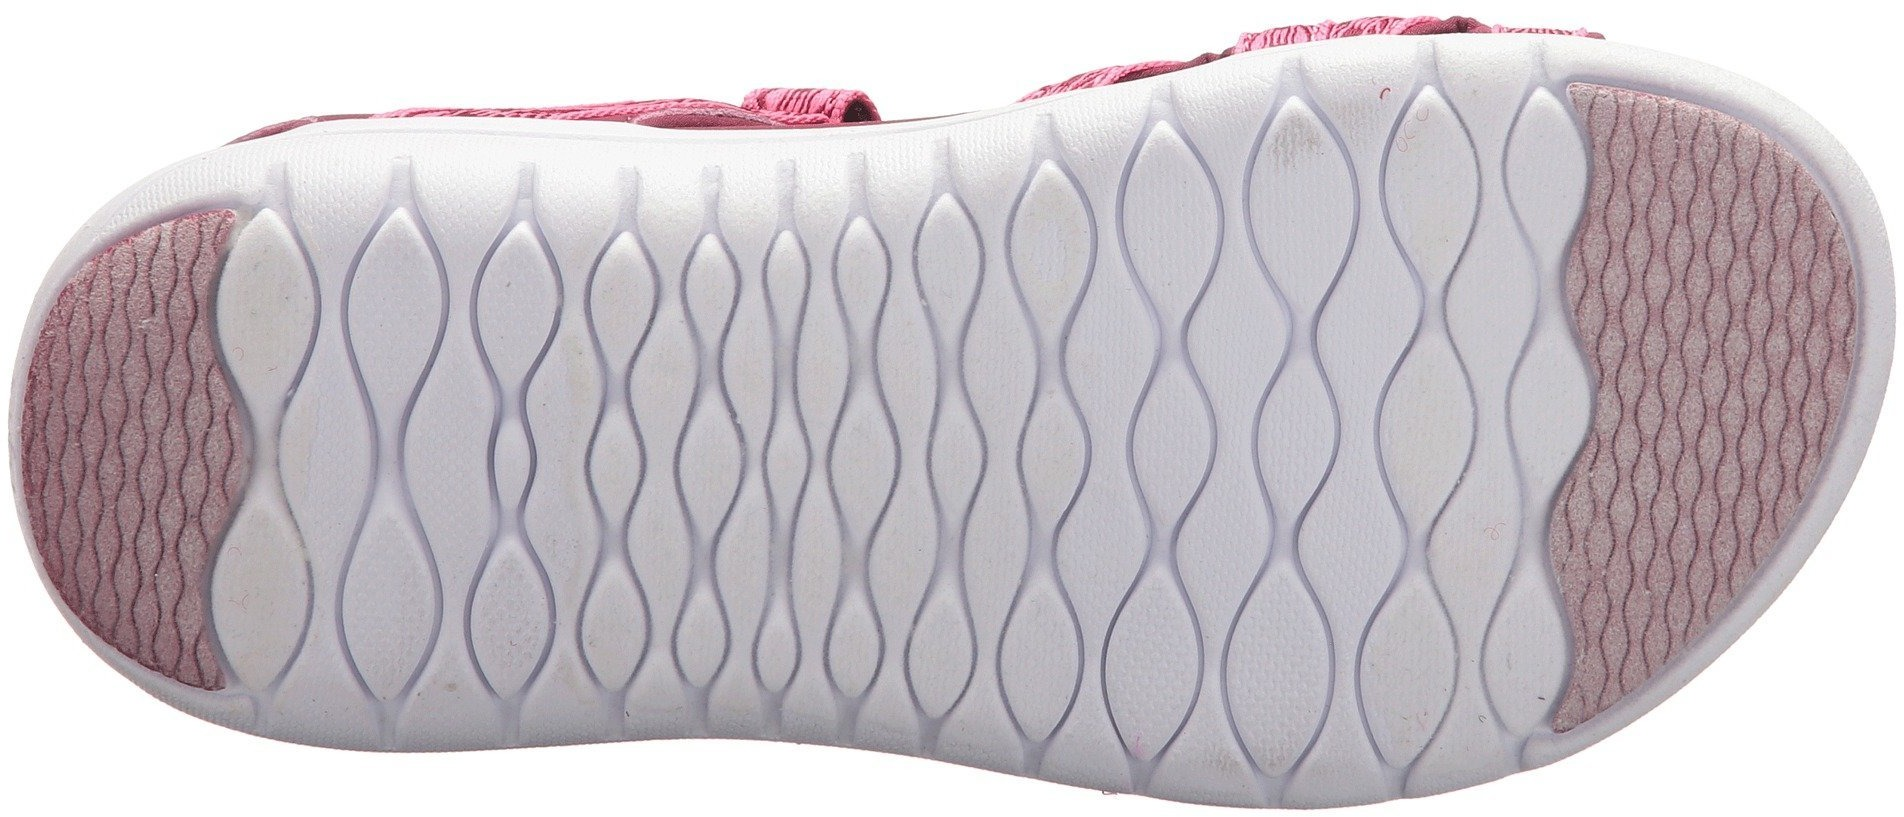chevron: (681, 144, 1249, 696), (1035, 161, 1553, 653), (253, 202, 763, 696), (1589, 174, 1793, 374), (1583, 374, 1789, 566), (58, 437, 216, 598), (59, 286, 208, 429)
